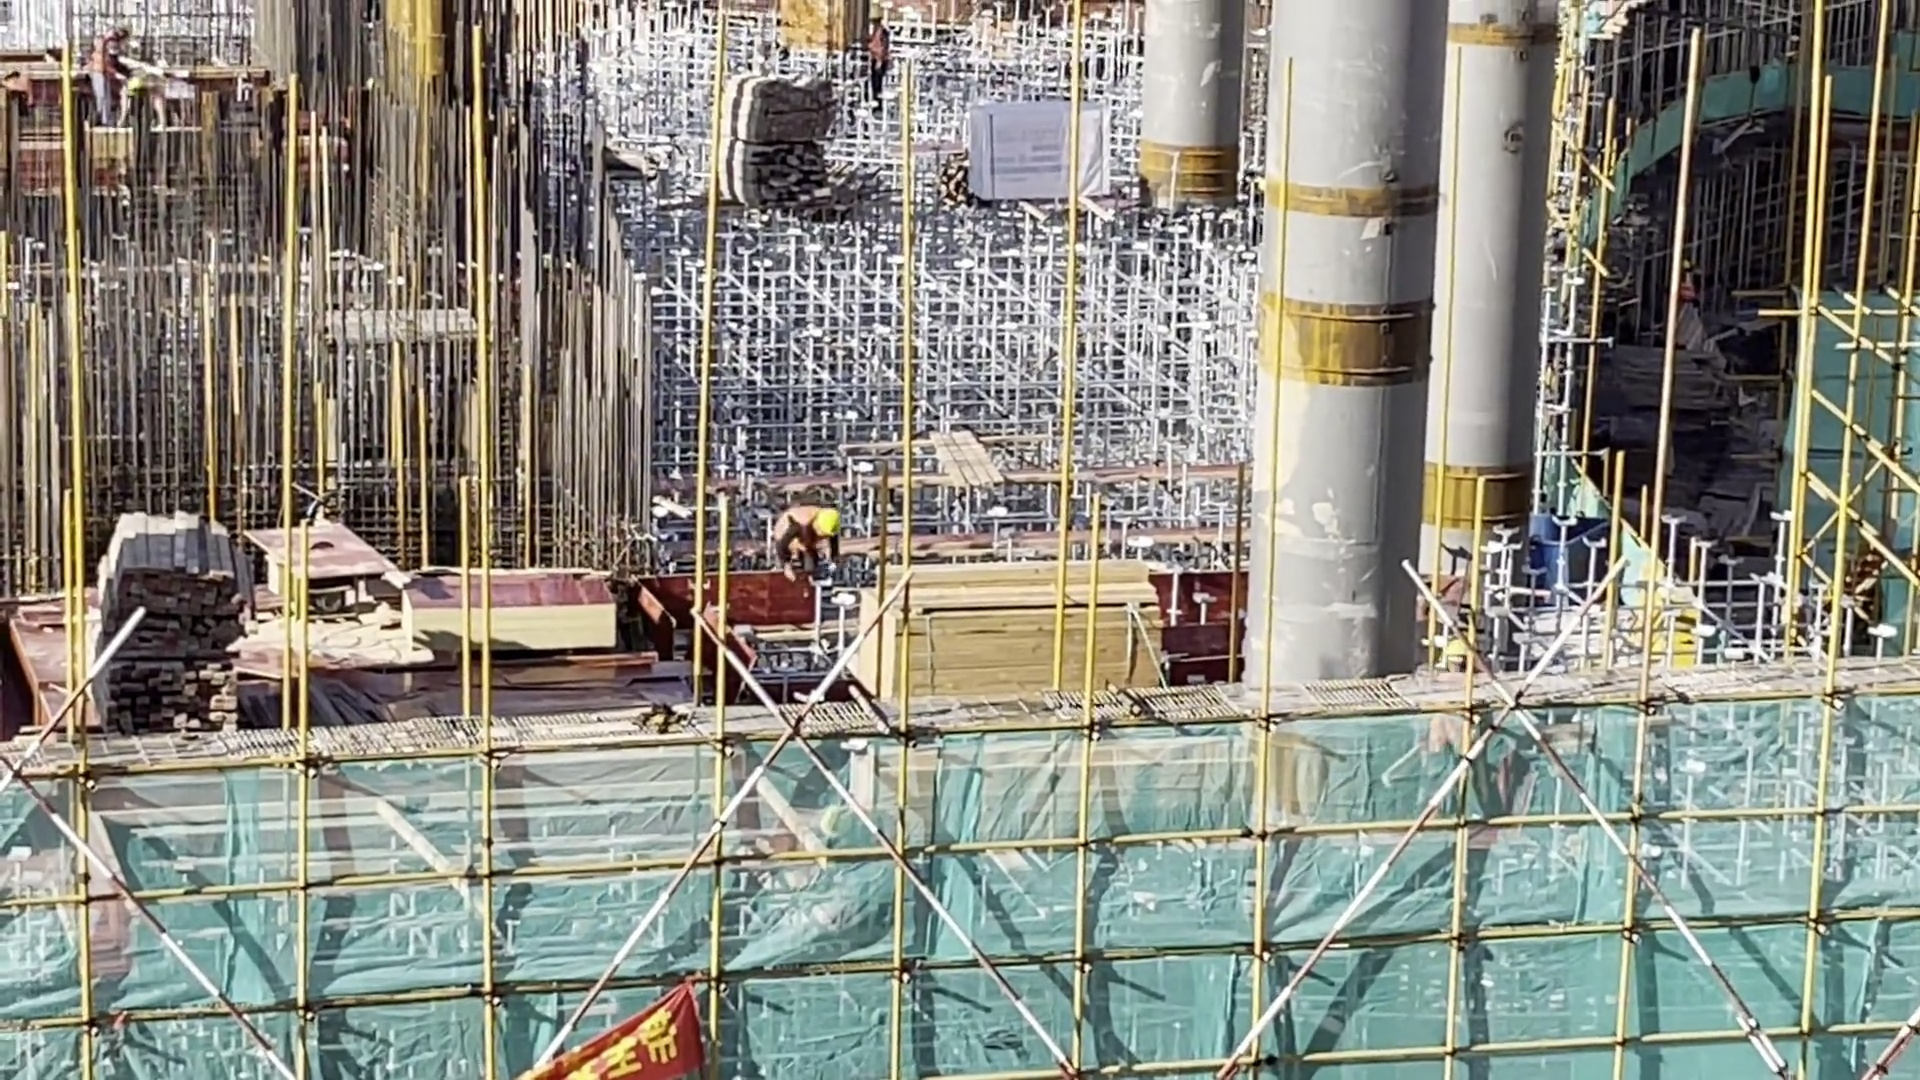helmet: (808, 498, 859, 537)
person: (758, 489, 880, 590)
slogan: (433, 958, 720, 1080)
vest: (771, 504, 817, 544)
wood: (849, 534, 1196, 726), (77, 495, 277, 741)
